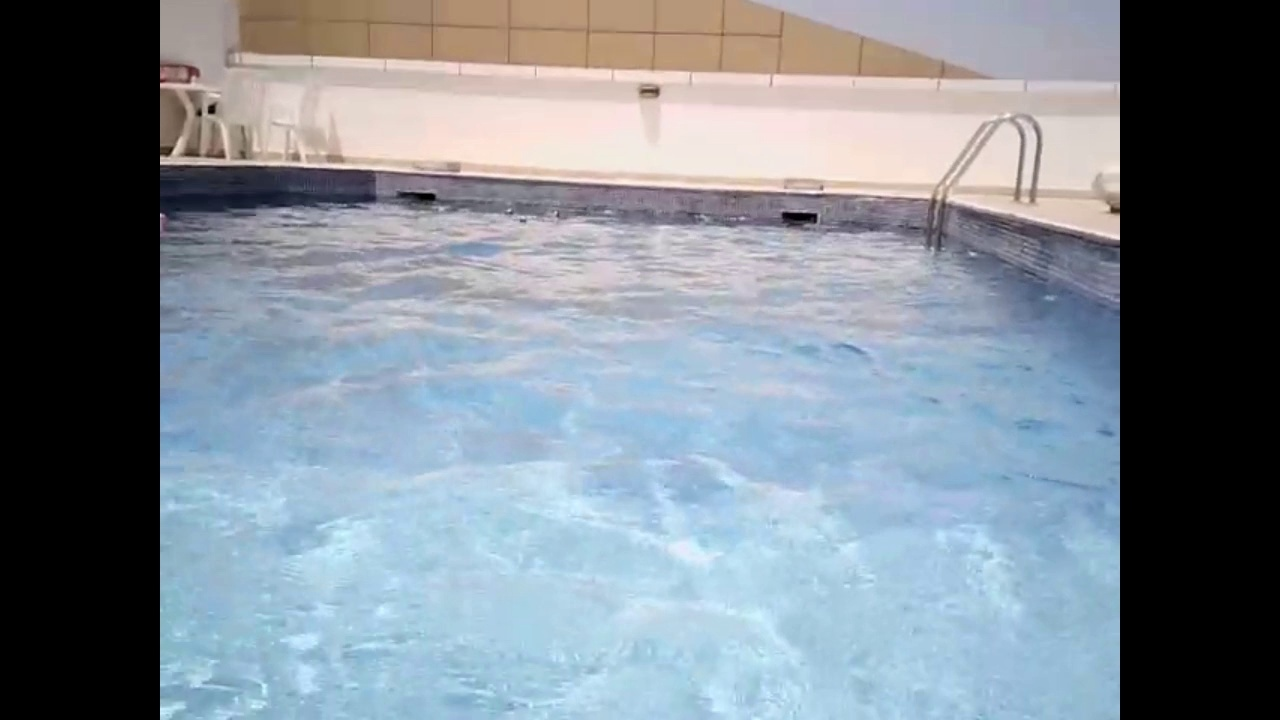debris: (550, 206, 565, 222), (514, 212, 530, 226), (503, 203, 513, 216)
